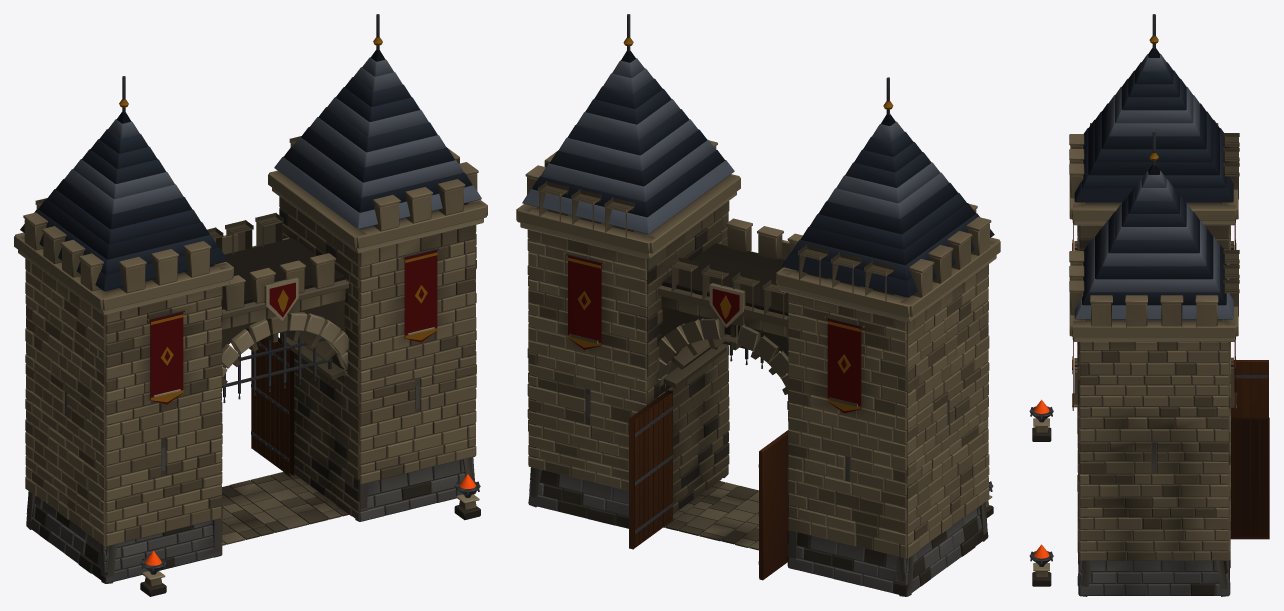
The model's file is Portao4.fbx.
3 renders of one model, left to right at view 1: azimuth 30°, elevation 25°; view 2: azimuth 150°, elevation 25°; view 3: azimuth 270°, elevation 25°, orthographic. The views are drawn at different scales.
Parts seen in each view (by area): view 1: Portao4; view 2: Portao4; view 3: Portao4.
Part boxes in pixels (box(x1,y1,x2,y2)): Portao4: box(14, 14, 487, 596); Portao4: box(516, 14, 1000, 596); Portao4: box(1029, 14, 1269, 596).
Size of the model in its own units: 18.03 by 20.64 by 10.24.
